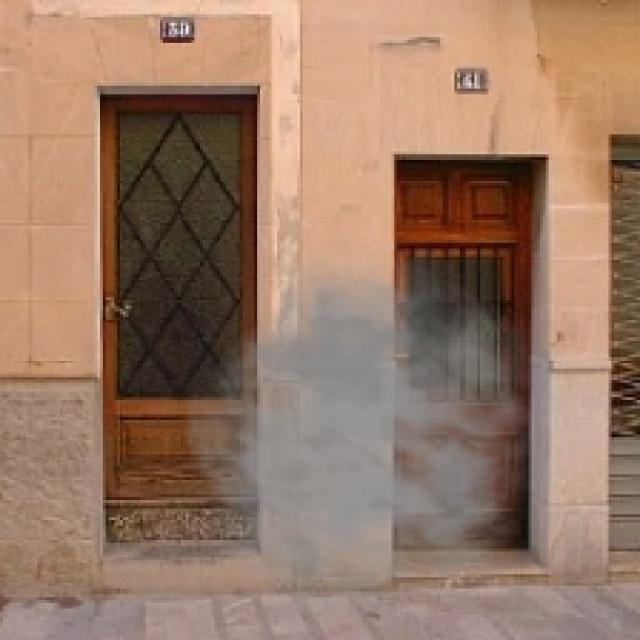Smoke: (182, 237, 574, 614)
